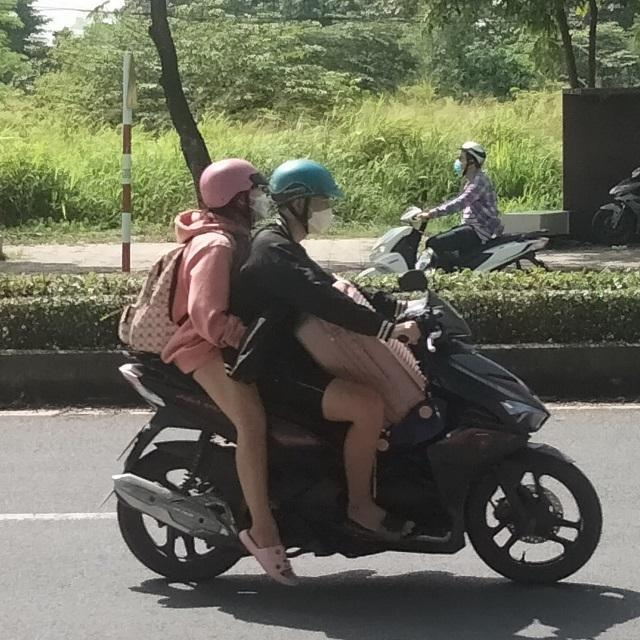Helmet: (269, 156, 341, 244), (200, 158, 268, 222), (454, 140, 488, 176)
